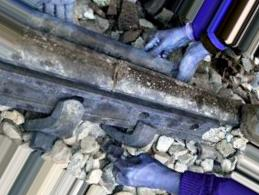tracks_fault: (45, 39, 258, 160)
